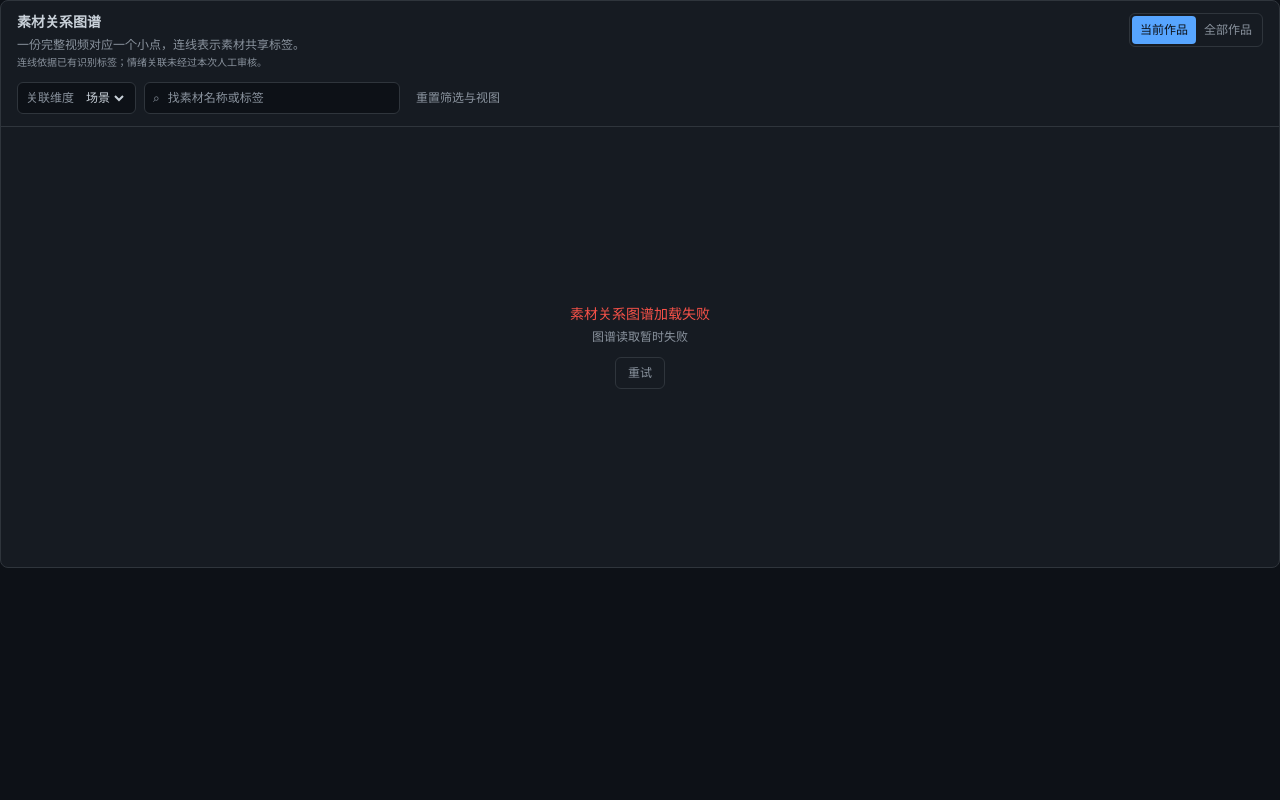
Test: MaterialGraphPanel › keeps errors retryable and clearly reports an empty material range
Expected: the message shows "图谱读取暂时失败", [592, 330, 688, 344]
Click the button "重试" at (640, 373), box [615, 357, 665, 389]
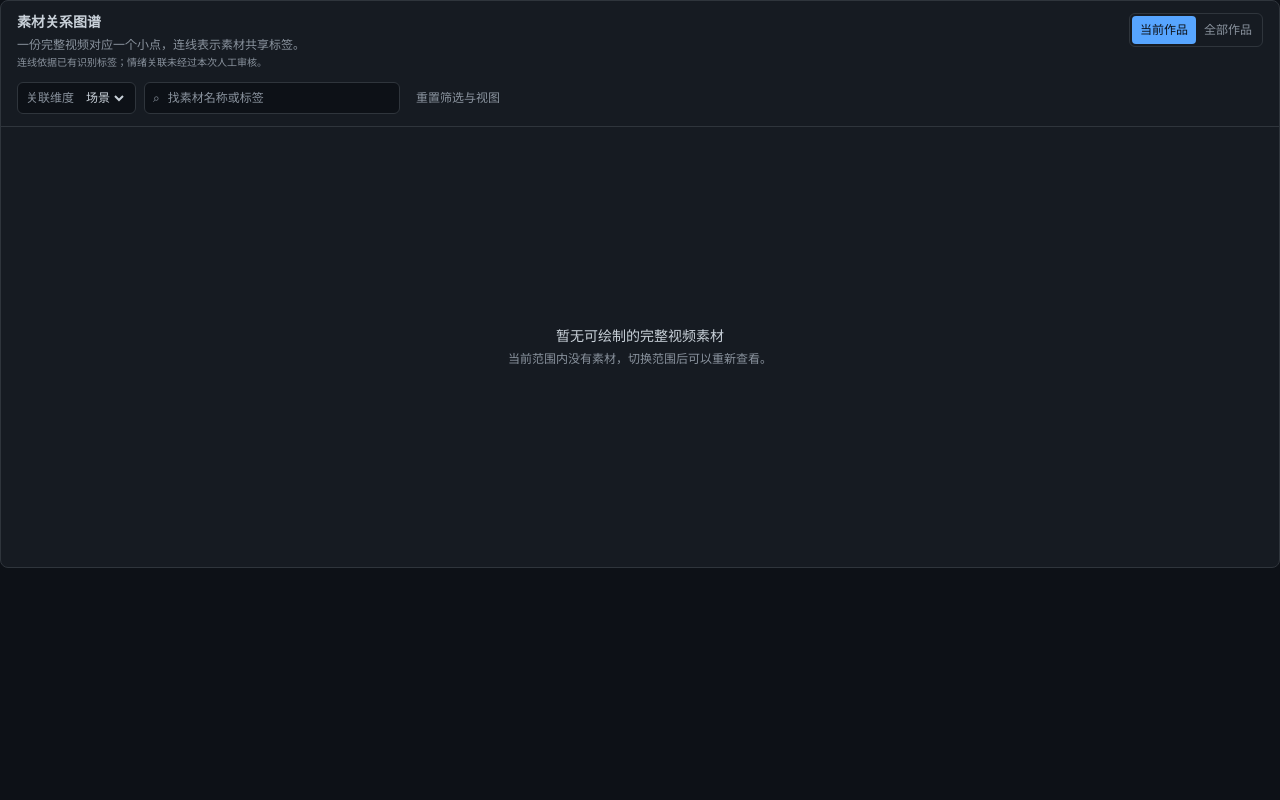
Now the heading "暂无可绘制的完整视频素材" is shown, box [556, 327, 724, 347]
